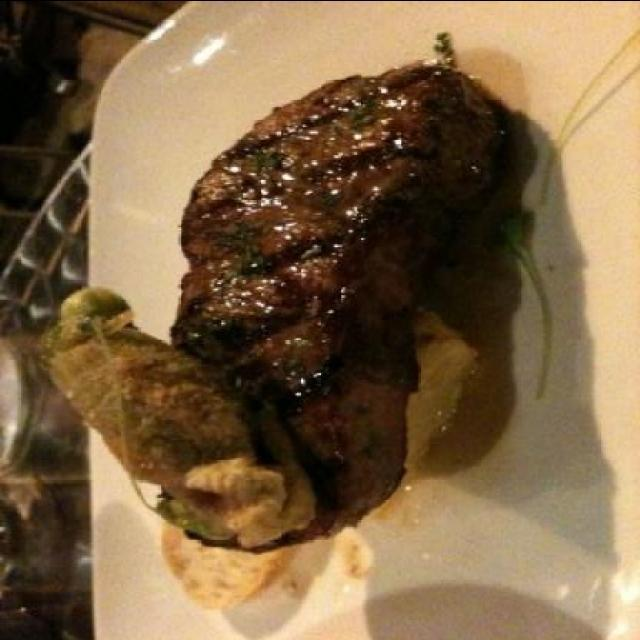Steak: (106, 32, 517, 530)
